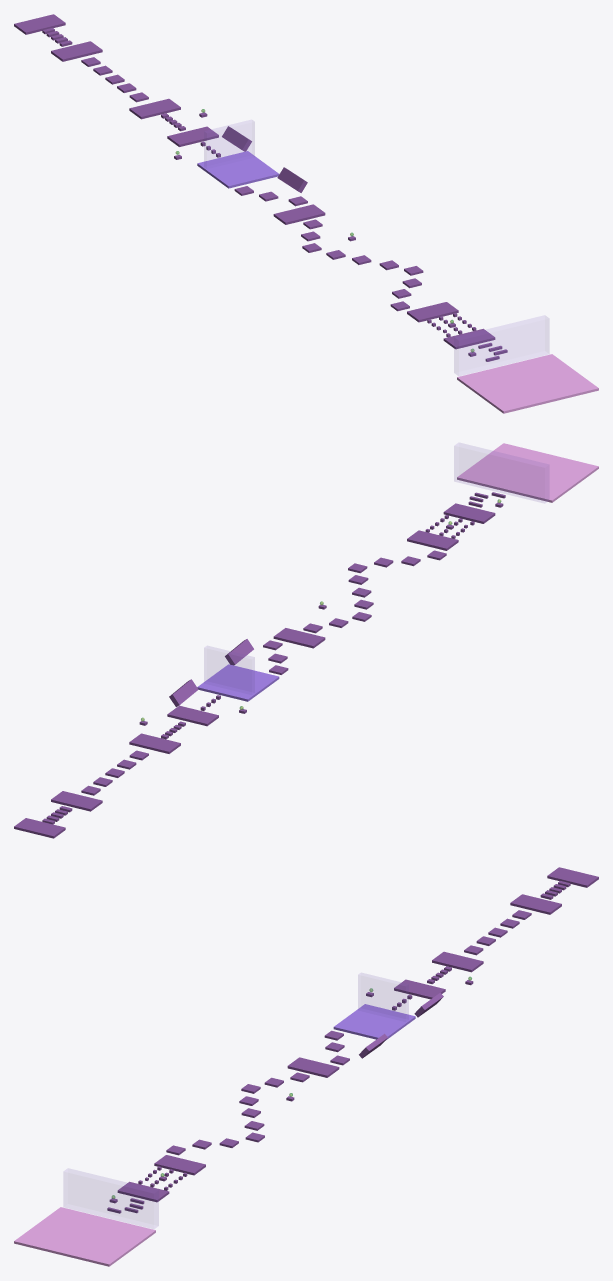
Rendered from level1.glb.
The picture shows the model from 3 angles, top to bottom: view 1: azimuth 30°, elevation 25°; view 2: azimuth 150°, elevation 25°; view 3: azimuth 330°, elevation 25°; orthographic projection.
Parts seen in each view (by area): view 1: End.002, Platform.001 (×7), End_Wall2, Checkpoint_Wall.001, Checkpoint.003; view 2: End.002, Platform.001 (×7), End_Wall2, Checkpoint_Wall.001, Checkpoint.003; view 3: End.002, Platform.001 (×7), End_Wall2, Checkpoint_Wall.001, Checkpoint.003.
Part boxes in pixels (x1=…): End.002: x1=457, y1=354, x2=598, y2=413; Platform.001 (×7): x1=14, y1=14, x2=495, y2=349; End_Wall2: x1=454, y1=316, x2=548, y2=375; Checkpoint_Wall.001: x1=204, y1=120, x2=254, y2=166; Checkpoint.003: x1=197, y1=151, x2=279, y2=188; End.002: x1=457, y1=443, x2=598, y2=502; Platform.001 (×7): x1=14, y1=503, x2=495, y2=838; End_Wall2: x1=454, y1=443, x2=548, y2=502; Checkpoint_Wall.001: x1=204, y1=646, x2=254, y2=692; Checkpoint.003: x1=197, y1=664, x2=279, y2=701; End.002: x1=14, y1=1207, x2=155, y2=1266; Platform.001 (×7): x1=117, y1=867, x2=598, y2=1202; End_Wall2: x1=64, y1=1169, x2=158, y2=1228; Checkpoint_Wall.001: x1=358, y1=973, x2=408, y2=1019; Checkpoint.003: x1=333, y1=1004, x2=415, y2=1039.
Size of the model in its own units: 81.14 by 32.71 by 763.
Materials: 3 (3 with a texture image).
